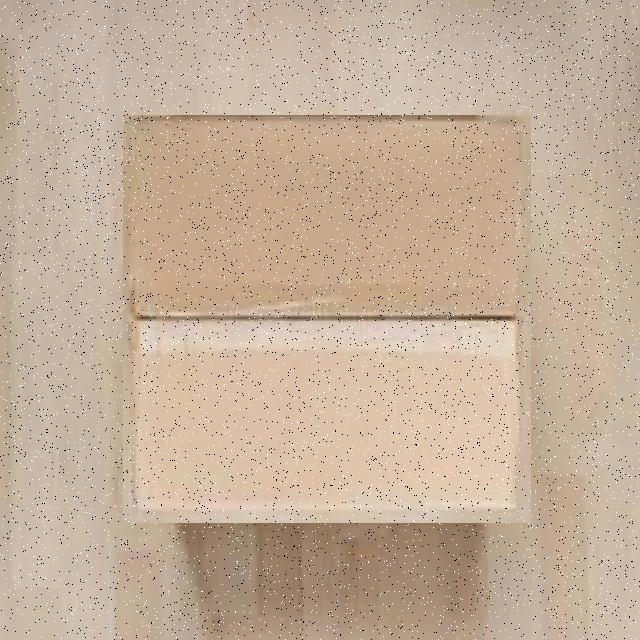normal: (123, 115, 531, 523)
